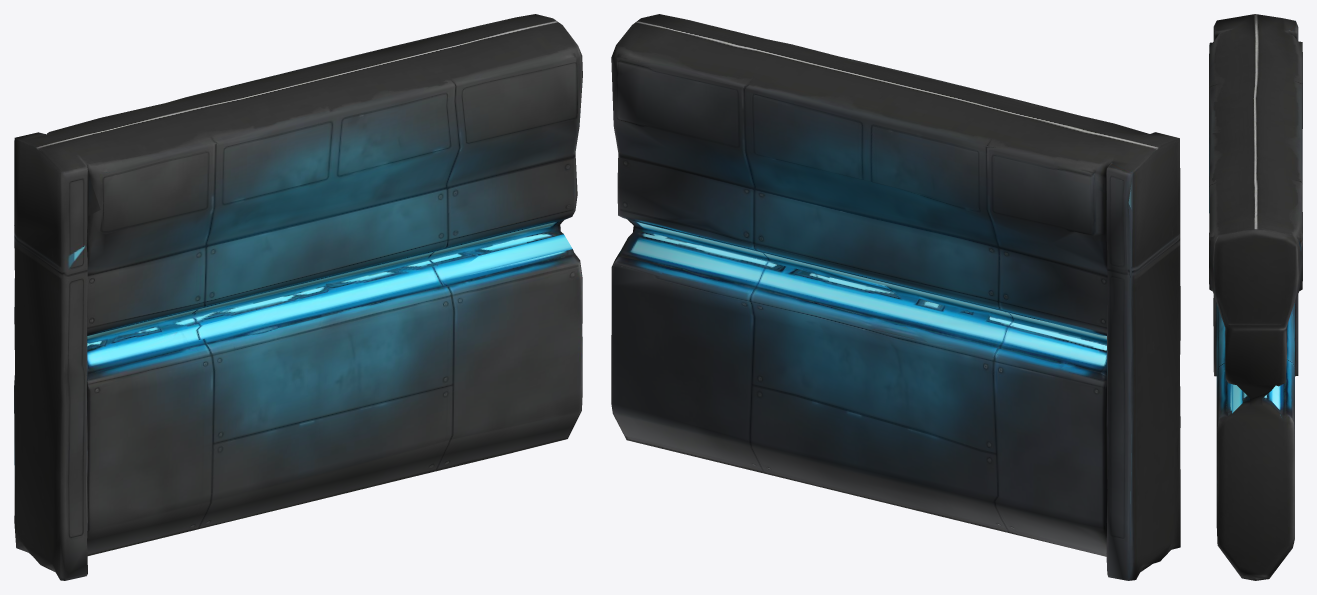
The model's file is WallPanel.fbx.
3 renders of one model, left to right at view 1: azimuth 30°, elevation 25°; view 2: azimuth 150°, elevation 25°; view 3: azimuth 270°, elevation 25°, orthographic. The views are drawn at different scales.
Visible parts, largest first — view 1: WallPanel; view 2: WallPanel; view 3: WallPanel.
Part boxes in pixels (x1=…): WallPanel: x1=14, y1=14, x2=582, y2=580; WallPanel: x1=611, y1=14, x2=1180, y2=580; WallPanel: x1=1209, y1=14, x2=1302, y2=580.
Size of what is drawn, in the model's own units: 193 by 35.44 by 147.
1 material, 1 textured.
